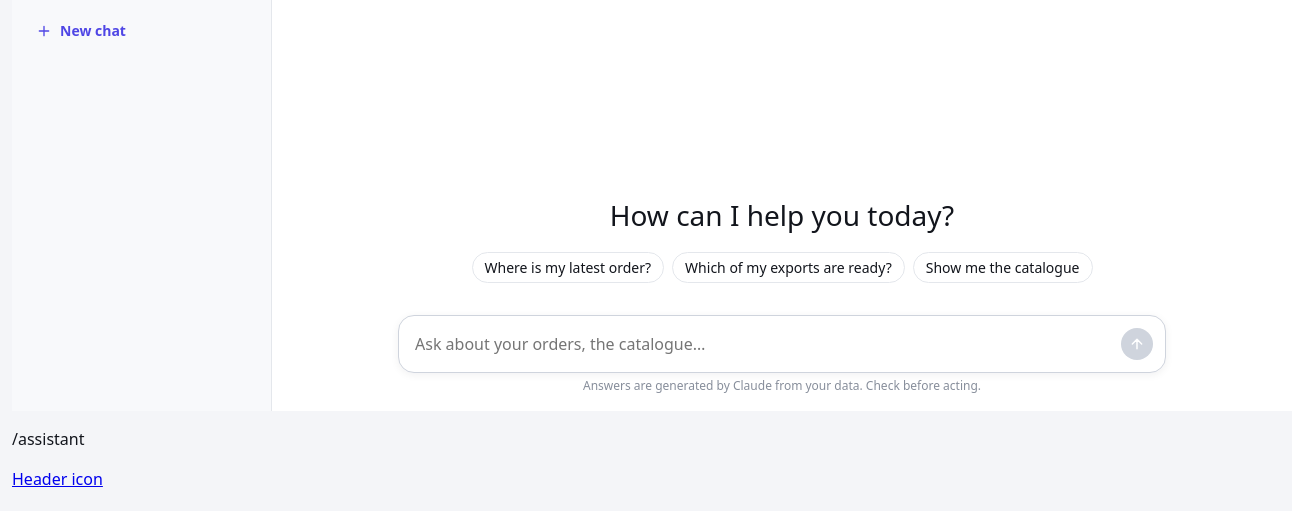
AssistantPage › starts a fresh chat when the header icon is used on a new chat that has messages
The width and height of the screenshot is (1292, 511).
Type "Old?" into the text box named "Your question" at (764, 344), box [415, 328, 1113, 360]
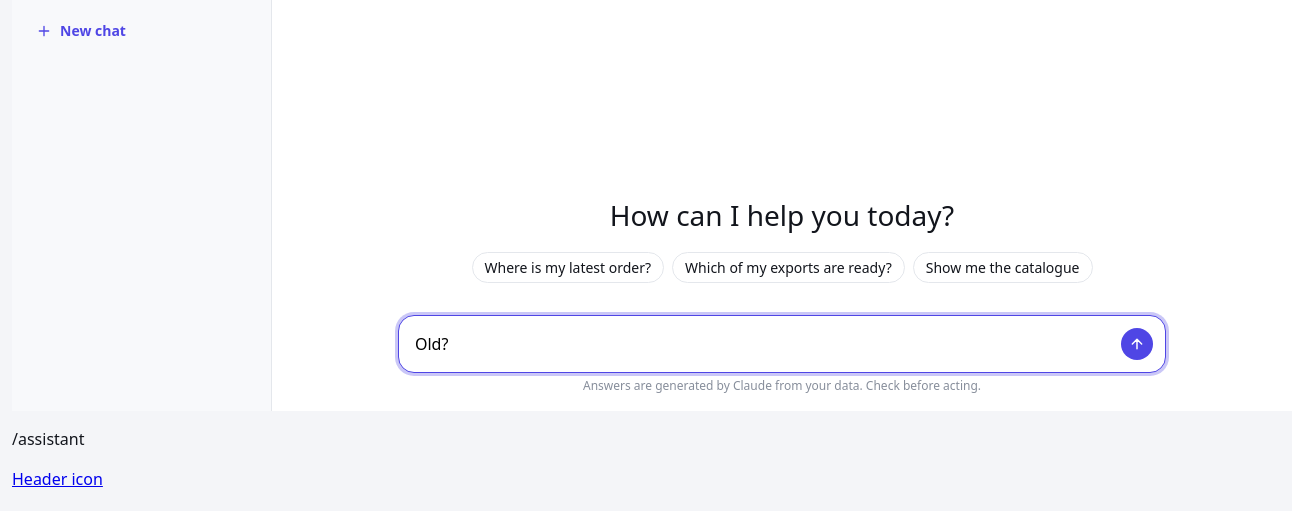
Click the button named "Send" at (1137, 344), box [1121, 328, 1153, 360]
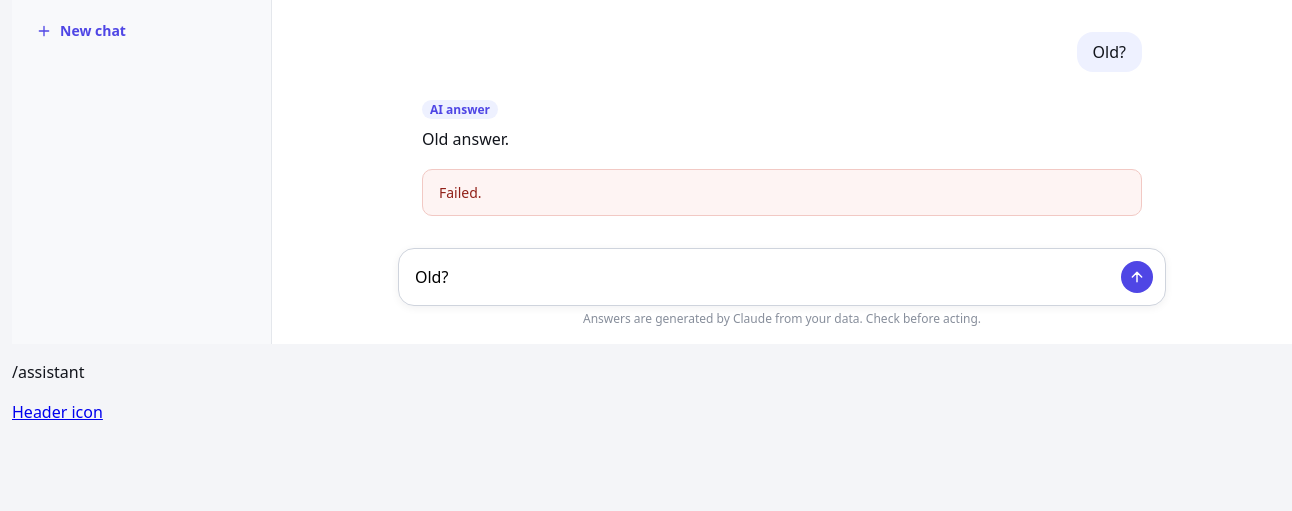
Expected: the text "Failed." is shown, [422, 169, 1142, 216]
Click the link "Header icon" at (57, 412), box [12, 401, 103, 423]
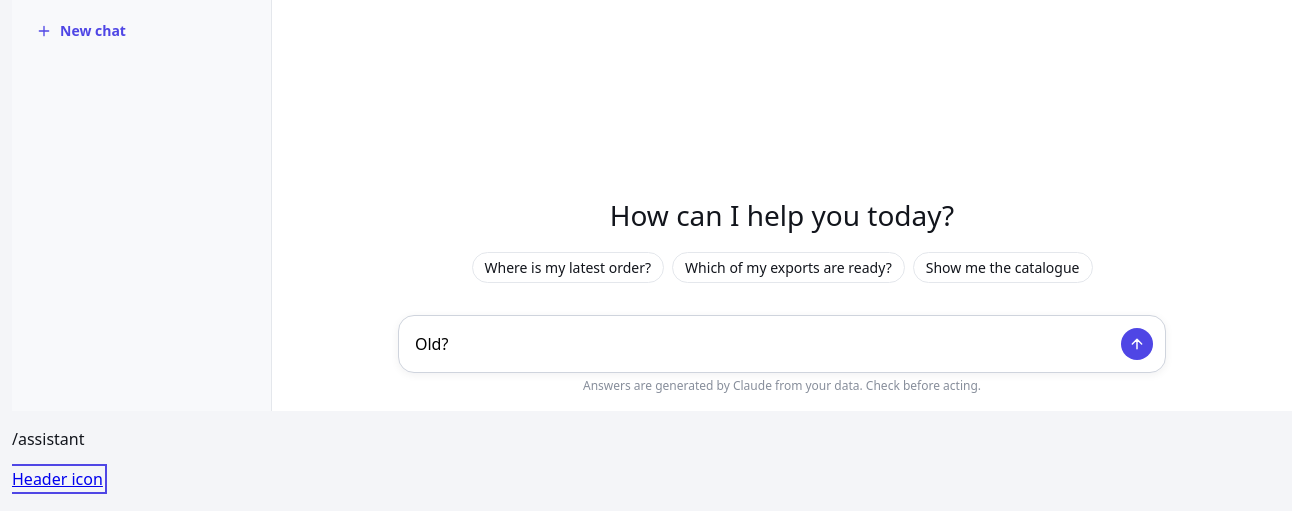
Expected: the heading "How can I help you today?" is shown, [610, 194, 954, 236]
Expected: the text "Old answer." is gone
